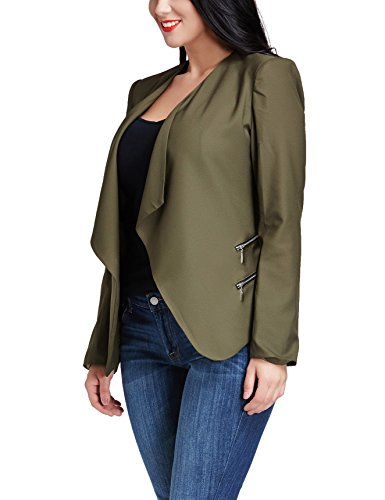F_W_suit jacket: (102, 48, 309, 374)
